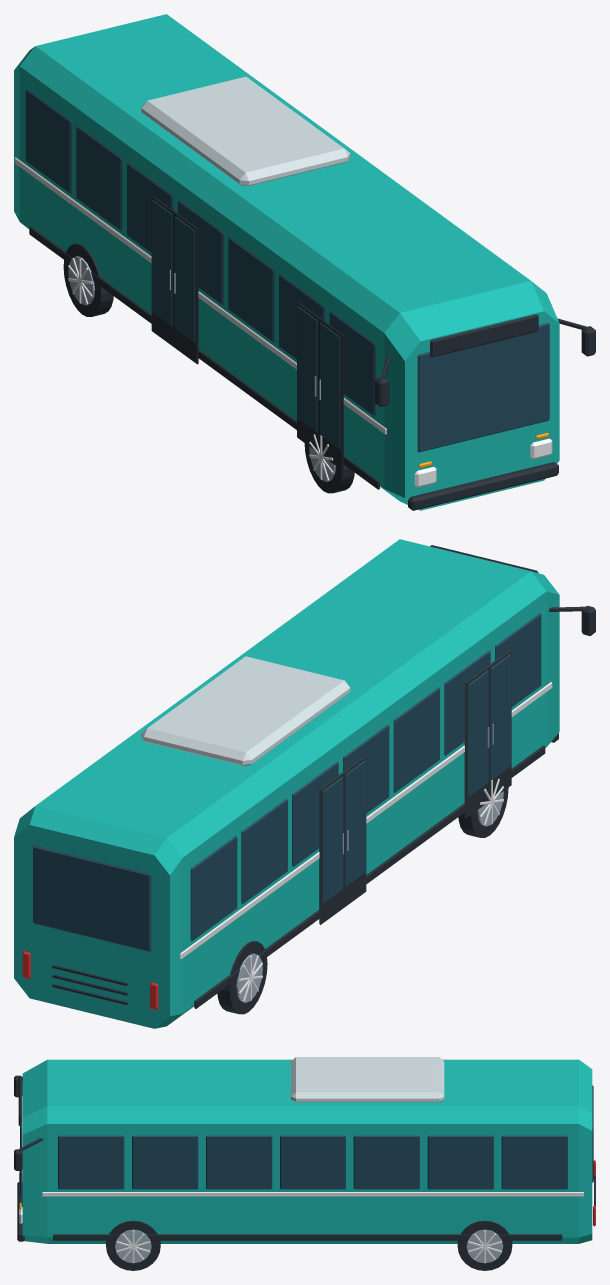
Rendered from taiwan-bus.glb.
3 views of the same model, one above another, from view 1: azimuth 30°, elevation 25°; view 2: azimuth 150°, elevation 25°; view 3: azimuth 270°, elevation 25° (orthographic). The views are drawn at different scales.
Parts seen in each view (by area): view 1: Low-floor city bus shell, HVAC rooftop pack, Front full windshield, Large passenger window.004, Large passenger window.001, Large passenger window, Large passenger window.006, Door glass leaf.003, Lower body protective rail, Door glass leaf, Door glass leaf.001, Door glass leaf.002 (+11 smaller); view 2: Low-floor city bus shell, HVAC rooftop pack, Rear window, Large passenger window, Large passenger window.001, Large passenger window.004, Large passenger window.006, Door glass leaf.001, Door glass leaf.002, Lower body protective rail, Door glass leaf, Door glass leaf.003 (+9 smaller); view 3: Low-floor city bus shell, HVAC rooftop pack, Large passenger window.007, Large passenger window.013, Large passenger window.008, Large passenger window.012, Large passenger window.009, Large passenger window.011, Large passenger window.010, Lower body protective rail.001, Light side waist rail.001, Bus tyre.001 (+3 smaller).
Part boxes in pixels (x1=…): Low-floor city bus shell: x1=14, y1=14, x2=559, y2=510; HVAC rooftop pack: x1=141, y1=76, x2=350, y2=185; Front full windshield: x1=417, y1=323, x2=549, y2=452; Large passenger window.004: x1=228, y1=237, x2=274, y2=342; Large passenger window.001: x1=76, y1=125, x2=122, y2=230; Large passenger window: x1=25, y1=88, x2=71, y2=193; Large passenger window.006: x1=329, y1=311, x2=375, y2=416; Door glass leaf.003: x1=174, y1=216, x2=195, y2=342; Lower body protective rail: x1=29, y1=226, x2=379, y2=489; Door glass leaf: x1=297, y1=306, x2=317, y2=432; Door glass leaf.001: x1=320, y1=322, x2=340, y2=448; Door glass leaf.002: x1=152, y1=200, x2=172, y2=326; Low-floor city bus shell: x1=14, y1=539, x2=559, y2=1028; HVAC rooftop pack: x1=141, y1=656, x2=350, y2=765; Rear window: x1=33, y1=845, x2=151, y2=951; Large passenger window: x1=190, y1=836, x2=237, y2=940; Large passenger window.001: x1=241, y1=798, x2=287, y2=904; Large passenger window.004: x1=393, y1=687, x2=439, y2=792; Large passenger window.006: x1=495, y1=613, x2=541, y2=706; Door glass leaf.001: x1=490, y1=654, x2=511, y2=780; Door glass leaf.002: x1=322, y1=776, x2=343, y2=903; Lower body protective rail: x1=194, y1=745, x2=545, y2=1008; Door glass leaf: x1=468, y1=670, x2=488, y2=796; Door glass leaf.003: x1=345, y1=760, x2=365, y2=886; Low-floor city bus shell: x1=22, y1=1059, x2=592, y2=1243; HVAC rooftop pack: x1=291, y1=1057, x2=444, y2=1102; Large passenger window.007: x1=501, y1=1135, x2=567, y2=1189; Large passenger window.013: x1=58, y1=1135, x2=124, y2=1189; Large passenger window.008: x1=427, y1=1135, x2=493, y2=1189; Large passenger window.012: x1=132, y1=1135, x2=198, y2=1189; Large passenger window.009: x1=353, y1=1135, x2=419, y2=1189; Large passenger window.011: x1=206, y1=1135, x2=272, y2=1189; Large passenger window.010: x1=280, y1=1135, x2=345, y2=1189; Lower body protective rail.001: x1=53, y1=1234, x2=562, y2=1240; Light side waist rail.001: x1=42, y1=1192, x2=583, y2=1196; Bus tyre.001: x1=457, y1=1220, x2=512, y2=1270.
Bounding box in the file's own units: 3.35 × 3.36 × 10.63.
